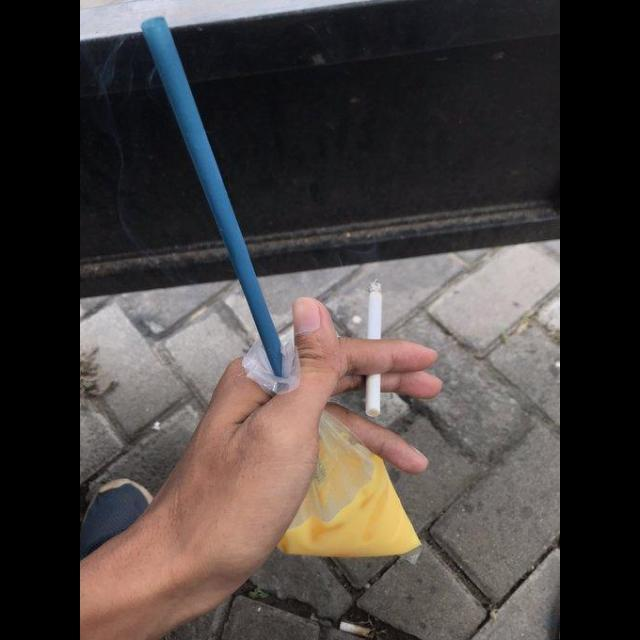rokok: (360, 274, 388, 414)
